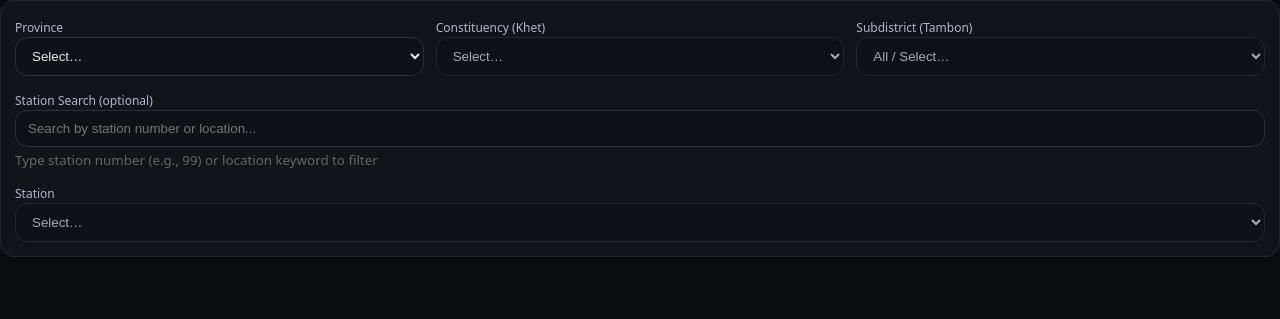
Test case: StationSelector › should show unlisted station button when constituency selected
Select "Bangkok" in the dropdown below "Province" at (219, 56), box [15,37,424,76]
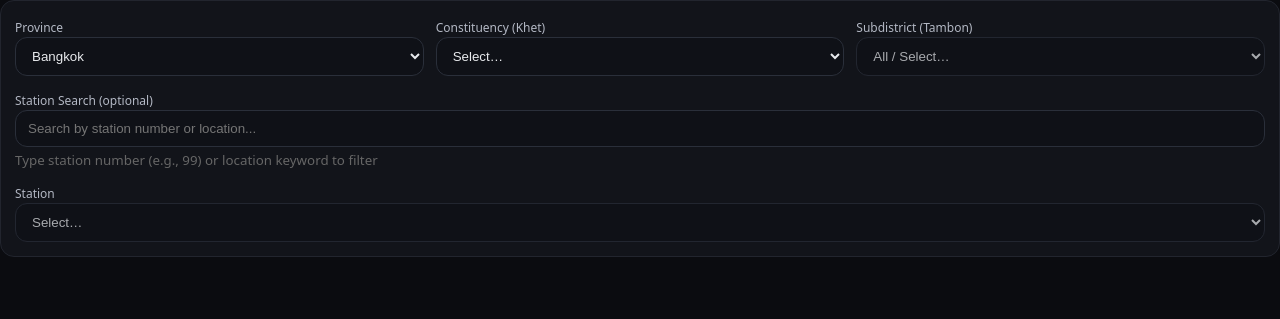
# Need to select constituency for the button to appear
Select "Khet 1" in the dropdown below "Constituency (Khet)" at (640, 56), box [436,37,844,76]
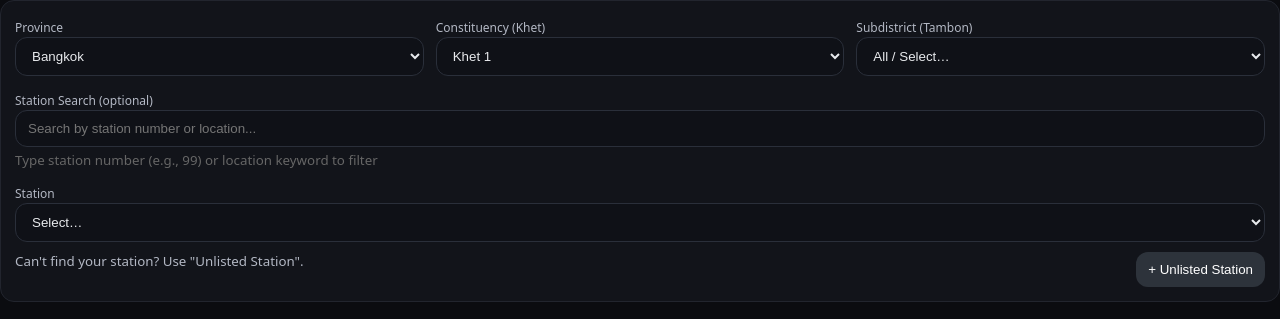
Now the button "+ Unlisted Station" is shown, box [1136,252,1265,287]
